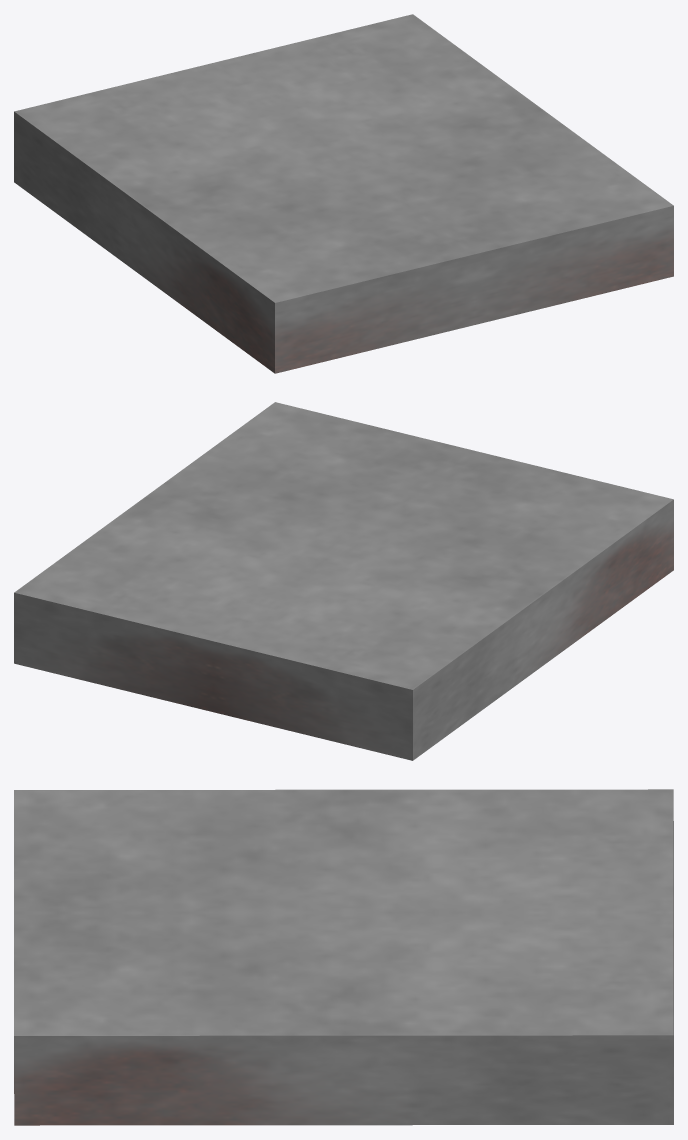
The model's file is LightTube.fbx.
3 renders of one model, top to bottom at view 1: azimuth 30°, elevation 25°; view 2: azimuth 150°, elevation 25°; view 3: azimuth 270°, elevation 25°, orthographic. The views are drawn at different scales.
Parts seen in each view (by area): view 1: Cube.080; view 2: Cube.080; view 3: Cube.080.
Boxes of the visible parts, x1,y1,x2,y2 form: Cube.080: (14, 14, 673, 373); Cube.080: (14, 402, 673, 760); Cube.080: (14, 789, 673, 1125).
Bounding box in the file's own units: 33.88 × 8.24 × 38.43.
